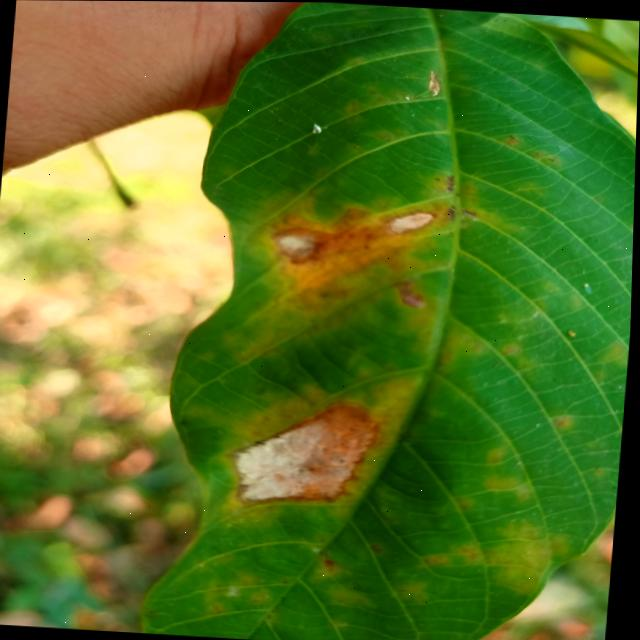Leaf-Blight: (233, 401, 383, 509), (270, 225, 340, 267), (392, 210, 437, 236)
